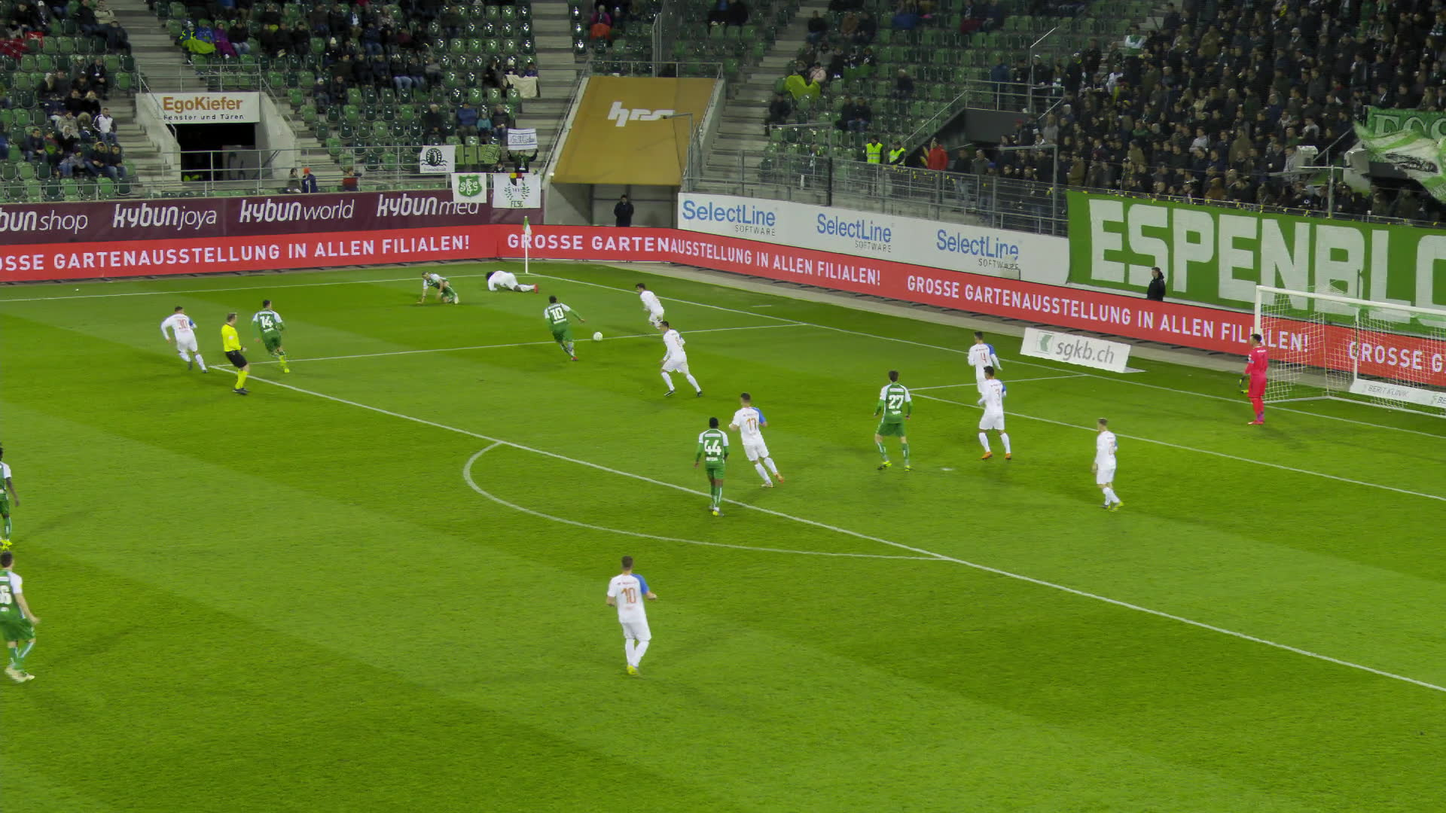ball: (593, 332, 601, 340)
player: (602, 552, 661, 676), (726, 392, 785, 490), (0, 551, 39, 683), (872, 369, 913, 473), (691, 416, 729, 517), (975, 365, 1013, 461), (966, 330, 1005, 420), (160, 306, 209, 373), (660, 320, 701, 397), (254, 299, 295, 375), (1091, 417, 1124, 511), (542, 294, 585, 361), (1237, 333, 1268, 425), (634, 282, 675, 342), (0, 443, 23, 547), (417, 270, 462, 306), (486, 270, 538, 292)
referee: (221, 312, 250, 396)
